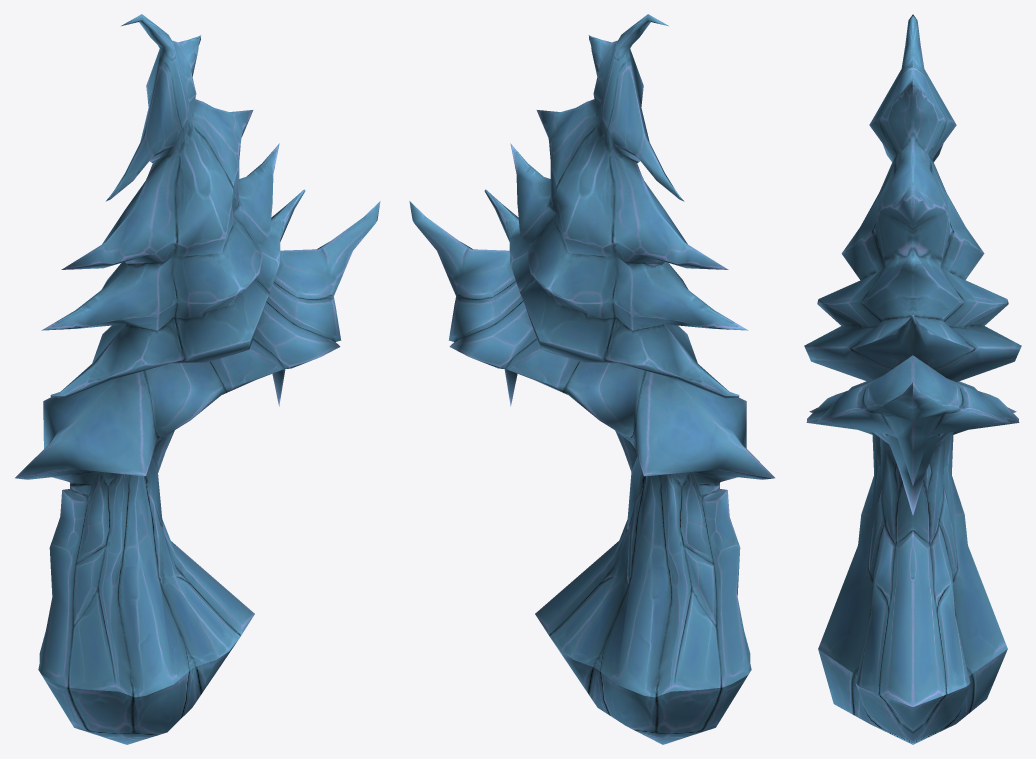
File: tree_space2.fbx
3 views of the same model, side by side, from view 1: azimuth 30°, elevation 25°; view 2: azimuth 150°, elevation 25°; view 3: azimuth 270°, elevation 25° (orthographic).
Visible parts, largest first — view 1: node_id39; view 2: node_id39; view 3: node_id39.
Boxes of the visible parts, x1,y1,x2,y2 form: node_id39: [15, 14, 380, 744]; node_id39: [409, 14, 774, 744]; node_id39: [804, 14, 1021, 744].
Bounding box in the file's own units: 0.2698 × 0.512 × 0.1376.
Materials: 1 (1 with a texture image).
